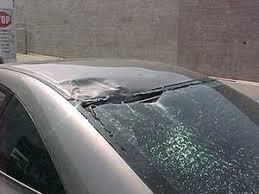Rear-windscreen-Damage: (67, 69, 258, 193)
